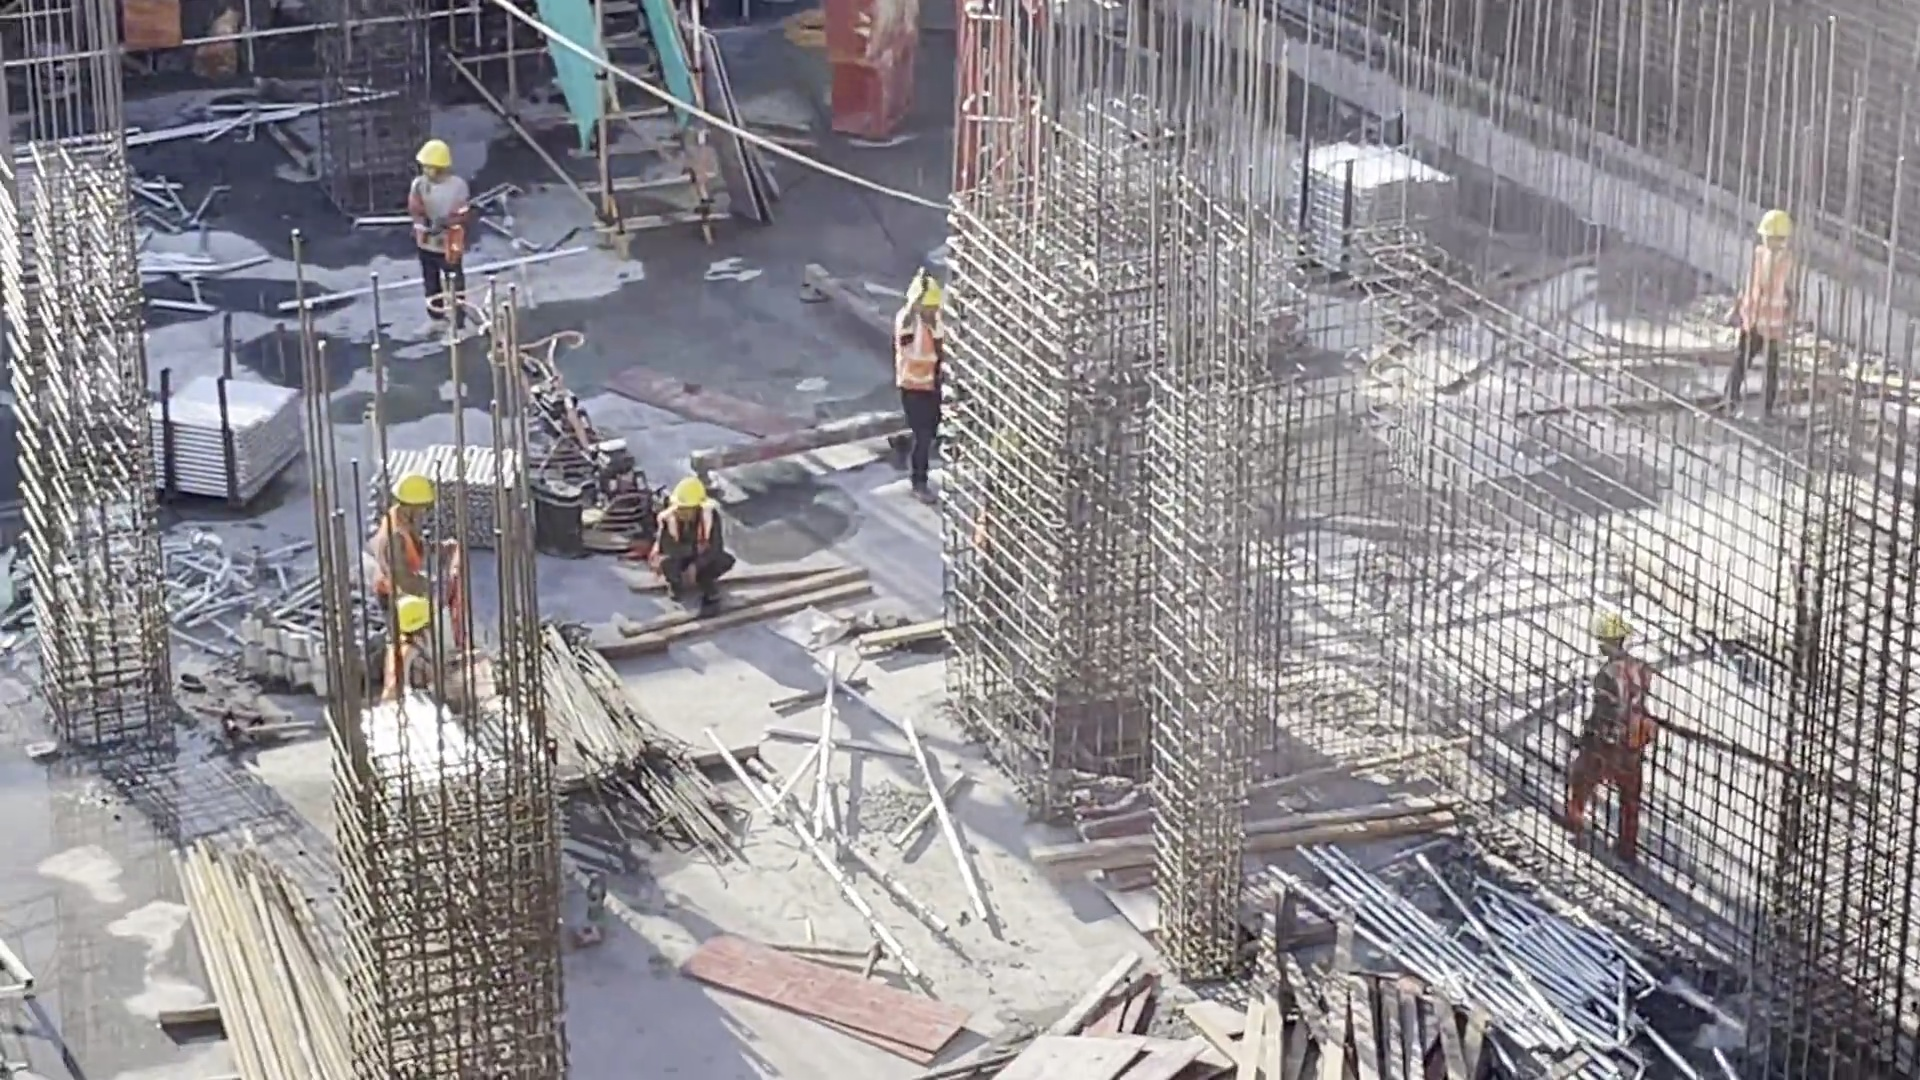board: (988, 1033, 1228, 1080)
helmet: (382, 589, 443, 623), (389, 468, 444, 501), (908, 272, 945, 317), (666, 471, 714, 504), (1593, 617, 1641, 648), (419, 139, 455, 175), (1764, 212, 1799, 239)
person: (354, 467, 497, 664), (1569, 619, 1669, 876), (1730, 201, 1819, 457), (886, 275, 977, 519), (417, 123, 499, 331), (640, 467, 740, 611), (380, 580, 473, 732)
scaffold: (1356, 859, 1634, 1046), (215, 555, 395, 690), (1311, 132, 1462, 274), (152, 362, 309, 499), (396, 447, 533, 536)
vest: (406, 174, 487, 265), (1738, 244, 1796, 341), (1598, 654, 1666, 736), (374, 517, 446, 588), (895, 315, 946, 399), (653, 515, 738, 562), (368, 637, 437, 675)
wood: (1235, 932, 1494, 1080)
